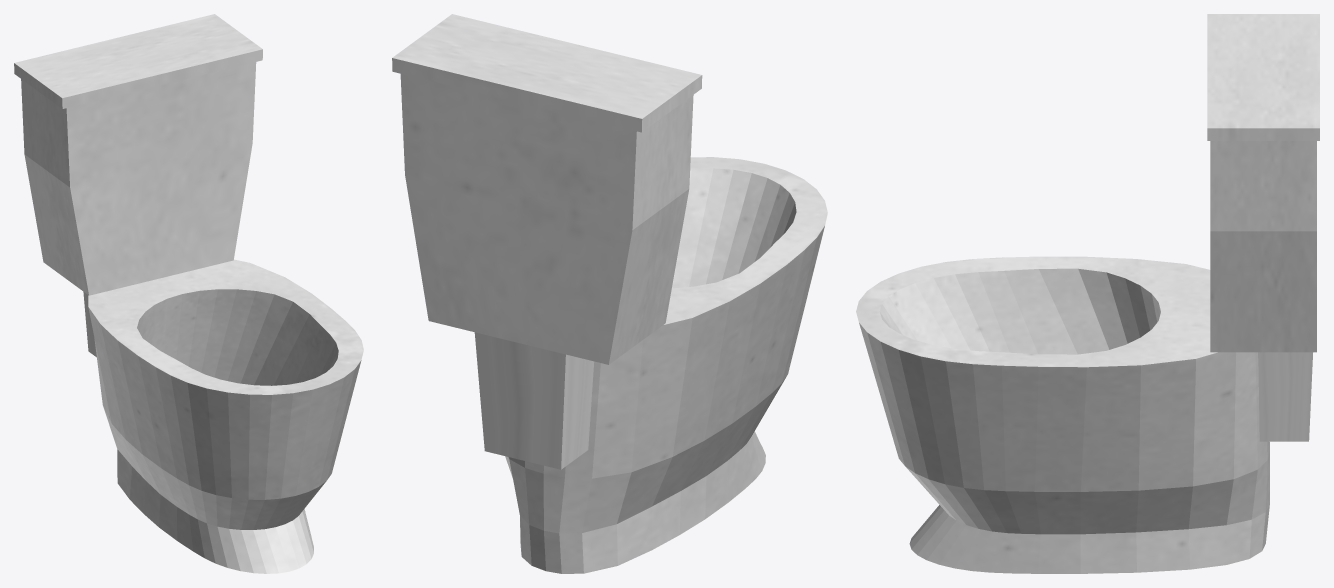
The model's file is MKU_bathroom_toilet_fin.fbx.
The picture shows the model from 3 angles, left to right: view 1: azimuth 30°, elevation 25°; view 2: azimuth 150°, elevation 25°; view 3: azimuth 270°, elevation 25°; orthographic projection. The views are drawn at different scales.
Visible parts, largest first — view 1: toilet; view 2: toilet; view 3: toilet.
Boxes of the visible parts, left/top/right/bottom form: toilet: left=14, top=14, right=363, bottom=573; toilet: left=392, top=14, right=827, bottom=573; toilet: left=856, top=14, right=1319, bottom=573.
Bounding box in the file's own units: 186 × 359 × 319.
